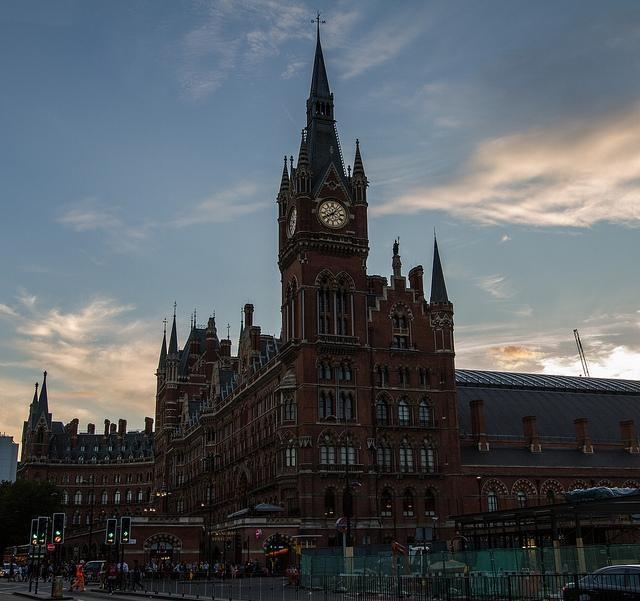car: (561, 565, 640, 601), (82, 560, 106, 585), (2, 564, 18, 578)
